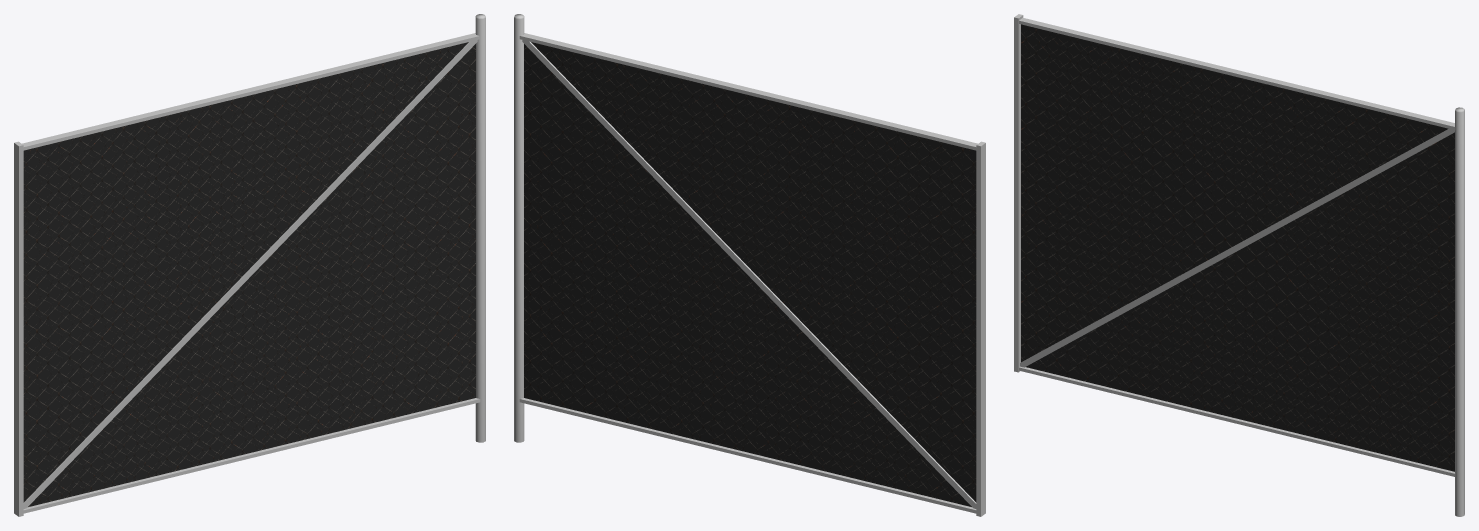
File: Wire_fence_gate.fbx
3 views of the same model, side by side, from view 1: azimuth 30°, elevation 25°; view 2: azimuth 150°, elevation 25°; view 3: azimuth 330°, elevation 25° (orthographic). The views are drawn at different scales.
Parts seen in each view (by area): view 1: polySurface935; view 2: polySurface935; view 3: polySurface935.
Part boxes in pixels (box(x1,y1,x2,y2)): polySurface935: box(14, 14, 485, 516); polySurface935: box(514, 14, 985, 516); polySurface935: box(1014, 14, 1464, 516).
Size of the model in its own units: 4.06 by 3.51 by 0.081.
